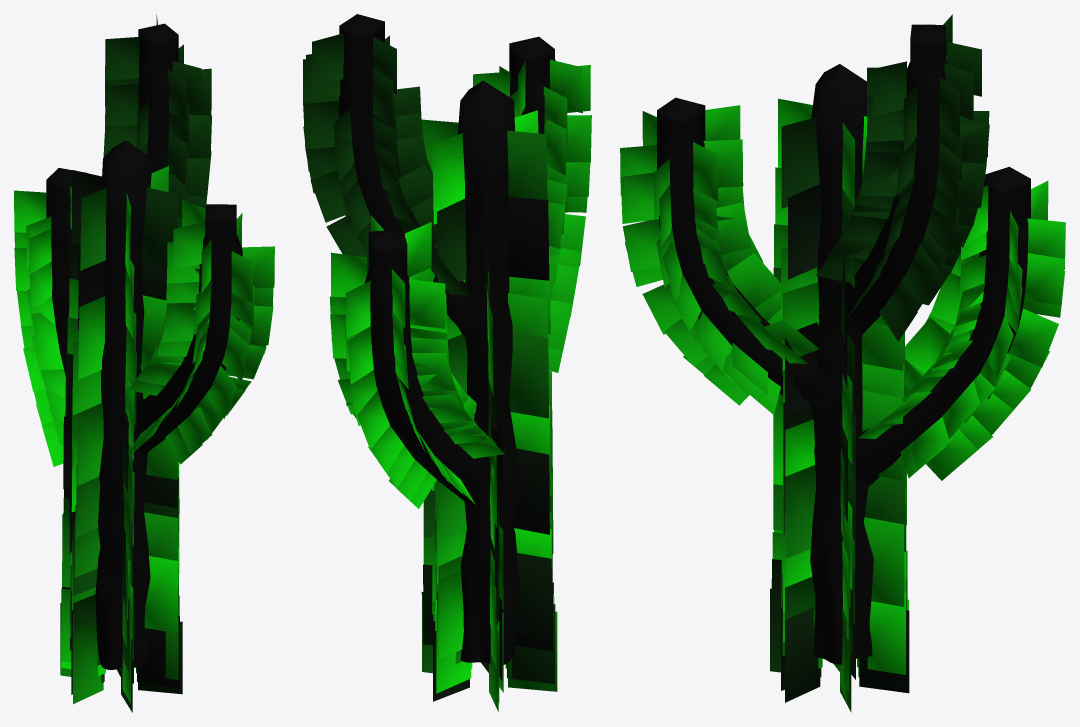
Rendered from Cactus_1_14.fbx.
3 renders of one model, left to right at view 1: azimuth 30°, elevation 25°; view 2: azimuth 150°, elevation 25°; view 3: azimuth 270°, elevation 25°, orthographic. The views are drawn at different scales.
Parts seen in each view (by area): view 1: Cactus_1_14; view 2: Cactus_1_14; view 3: Cactus_1_14.
Part boxes in pixels (x1,y1,x2,y2): Cactus_1_14: [14, 14, 274, 712]; Cactus_1_14: [303, 14, 591, 711]; Cactus_1_14: [620, 14, 1065, 712].
Size of the model in its own units: 87.6 by 296 by 171.
